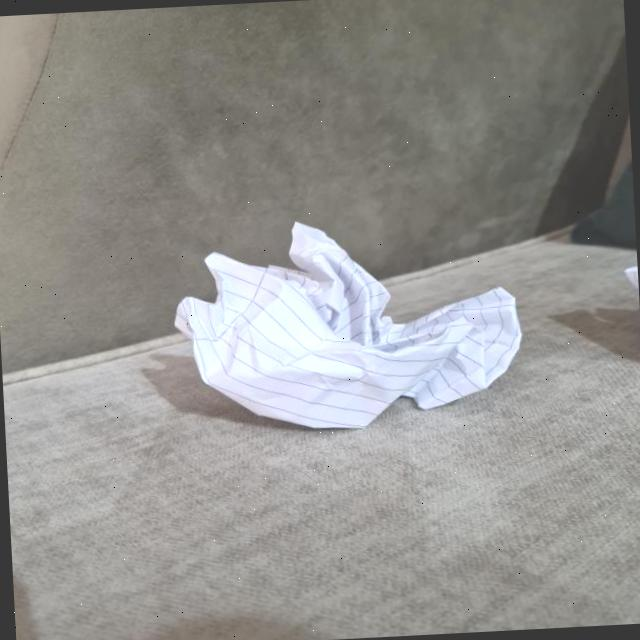trash: (178, 222, 536, 430)
